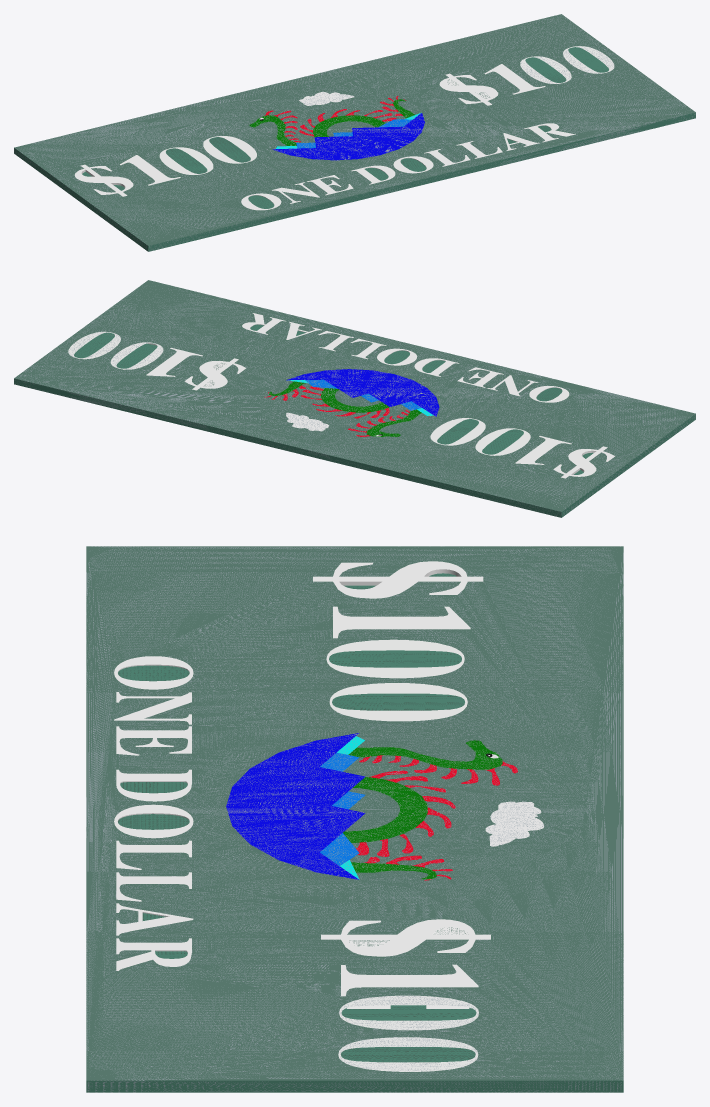
The model's file is Nessie100.dae.
3 renders of one model, top to bottom at view 1: azimuth 30°, elevation 25°; view 2: azimuth 150°, elevation 25°; view 3: azimuth 270°, elevation 25°, orthographic. The views are drawn at different scales.
Visible parts, largest first — view 1: SketchUp (×18); view 2: SketchUp (×17); view 3: SketchUp (×26).
Boxes of the visible parts, bbox=[...] form: SketchUp (×18): bbox=[14, 14, 695, 251]; SketchUp (×17): bbox=[14, 280, 695, 517]; SketchUp (×26): bbox=[86, 546, 623, 1092].
Size of the model in its own units: 6.14 by 2.61 by 0.0676.
